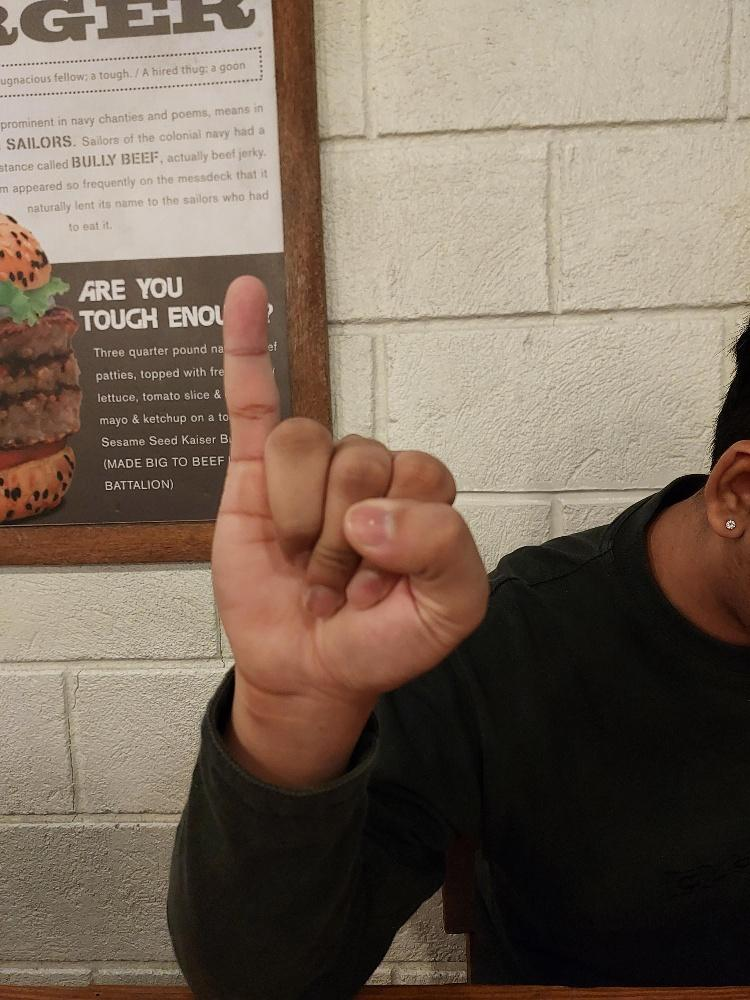i: (209, 272, 491, 704)
